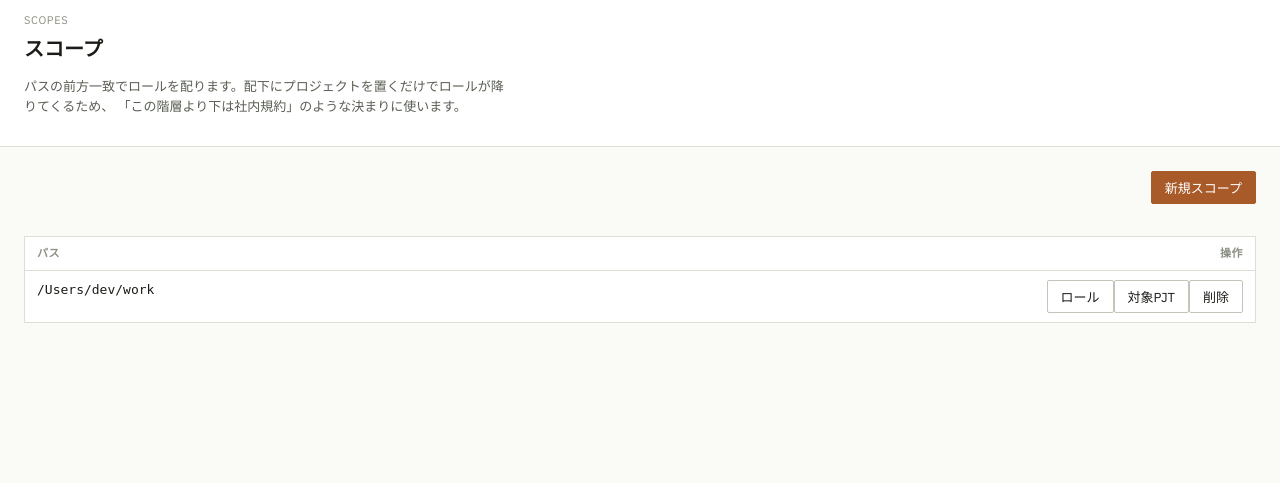
Test case: Scopes › opens the role list for a scope with the bound roles checked
Check: the text "/Users/dev/work" is shown, box [37,282,154,297]
Step 1. Click the button "ロール" → [1080, 297], box [1046,280,1114,313]
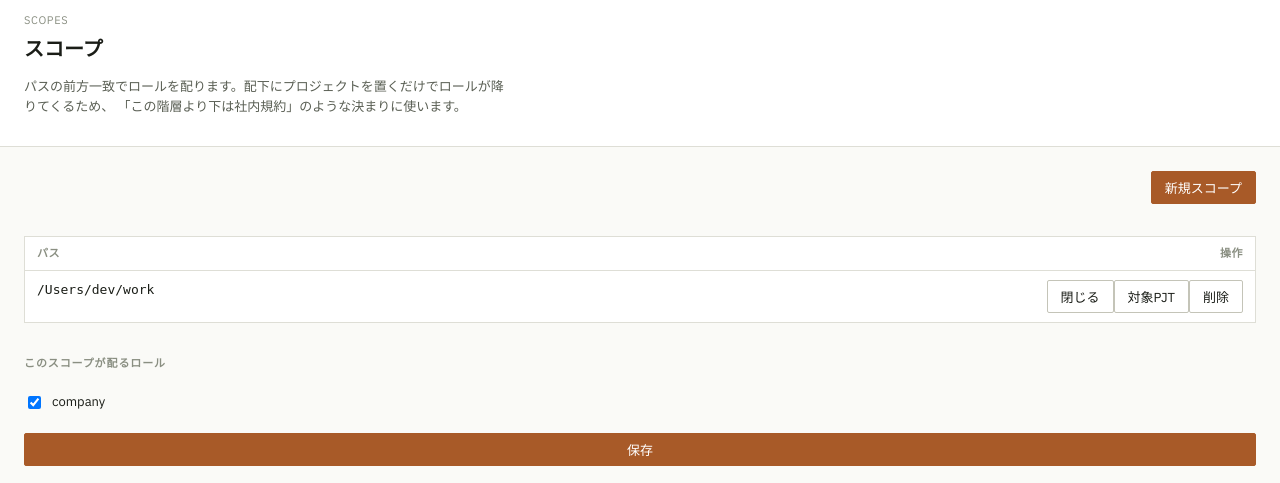
Check: the heading "このスコープが配るロール" is shown, box [24,355,166,372]
Check: the checkbox is checked, box [28,396,41,409]
